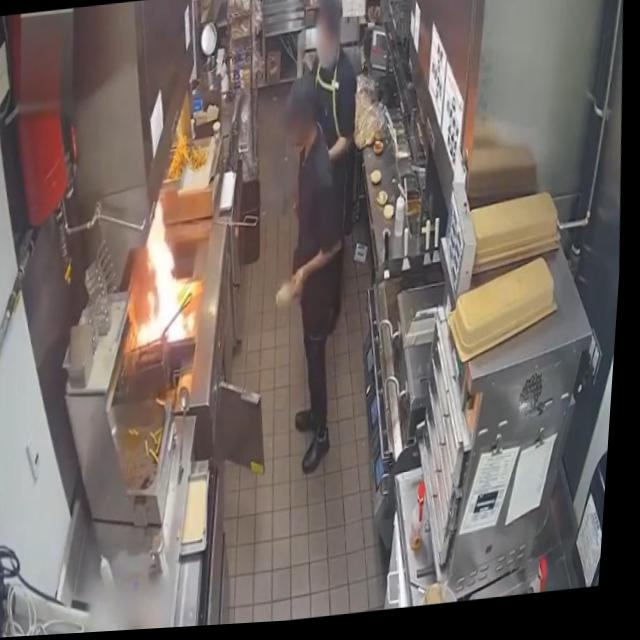fire: (127, 195, 205, 359)
